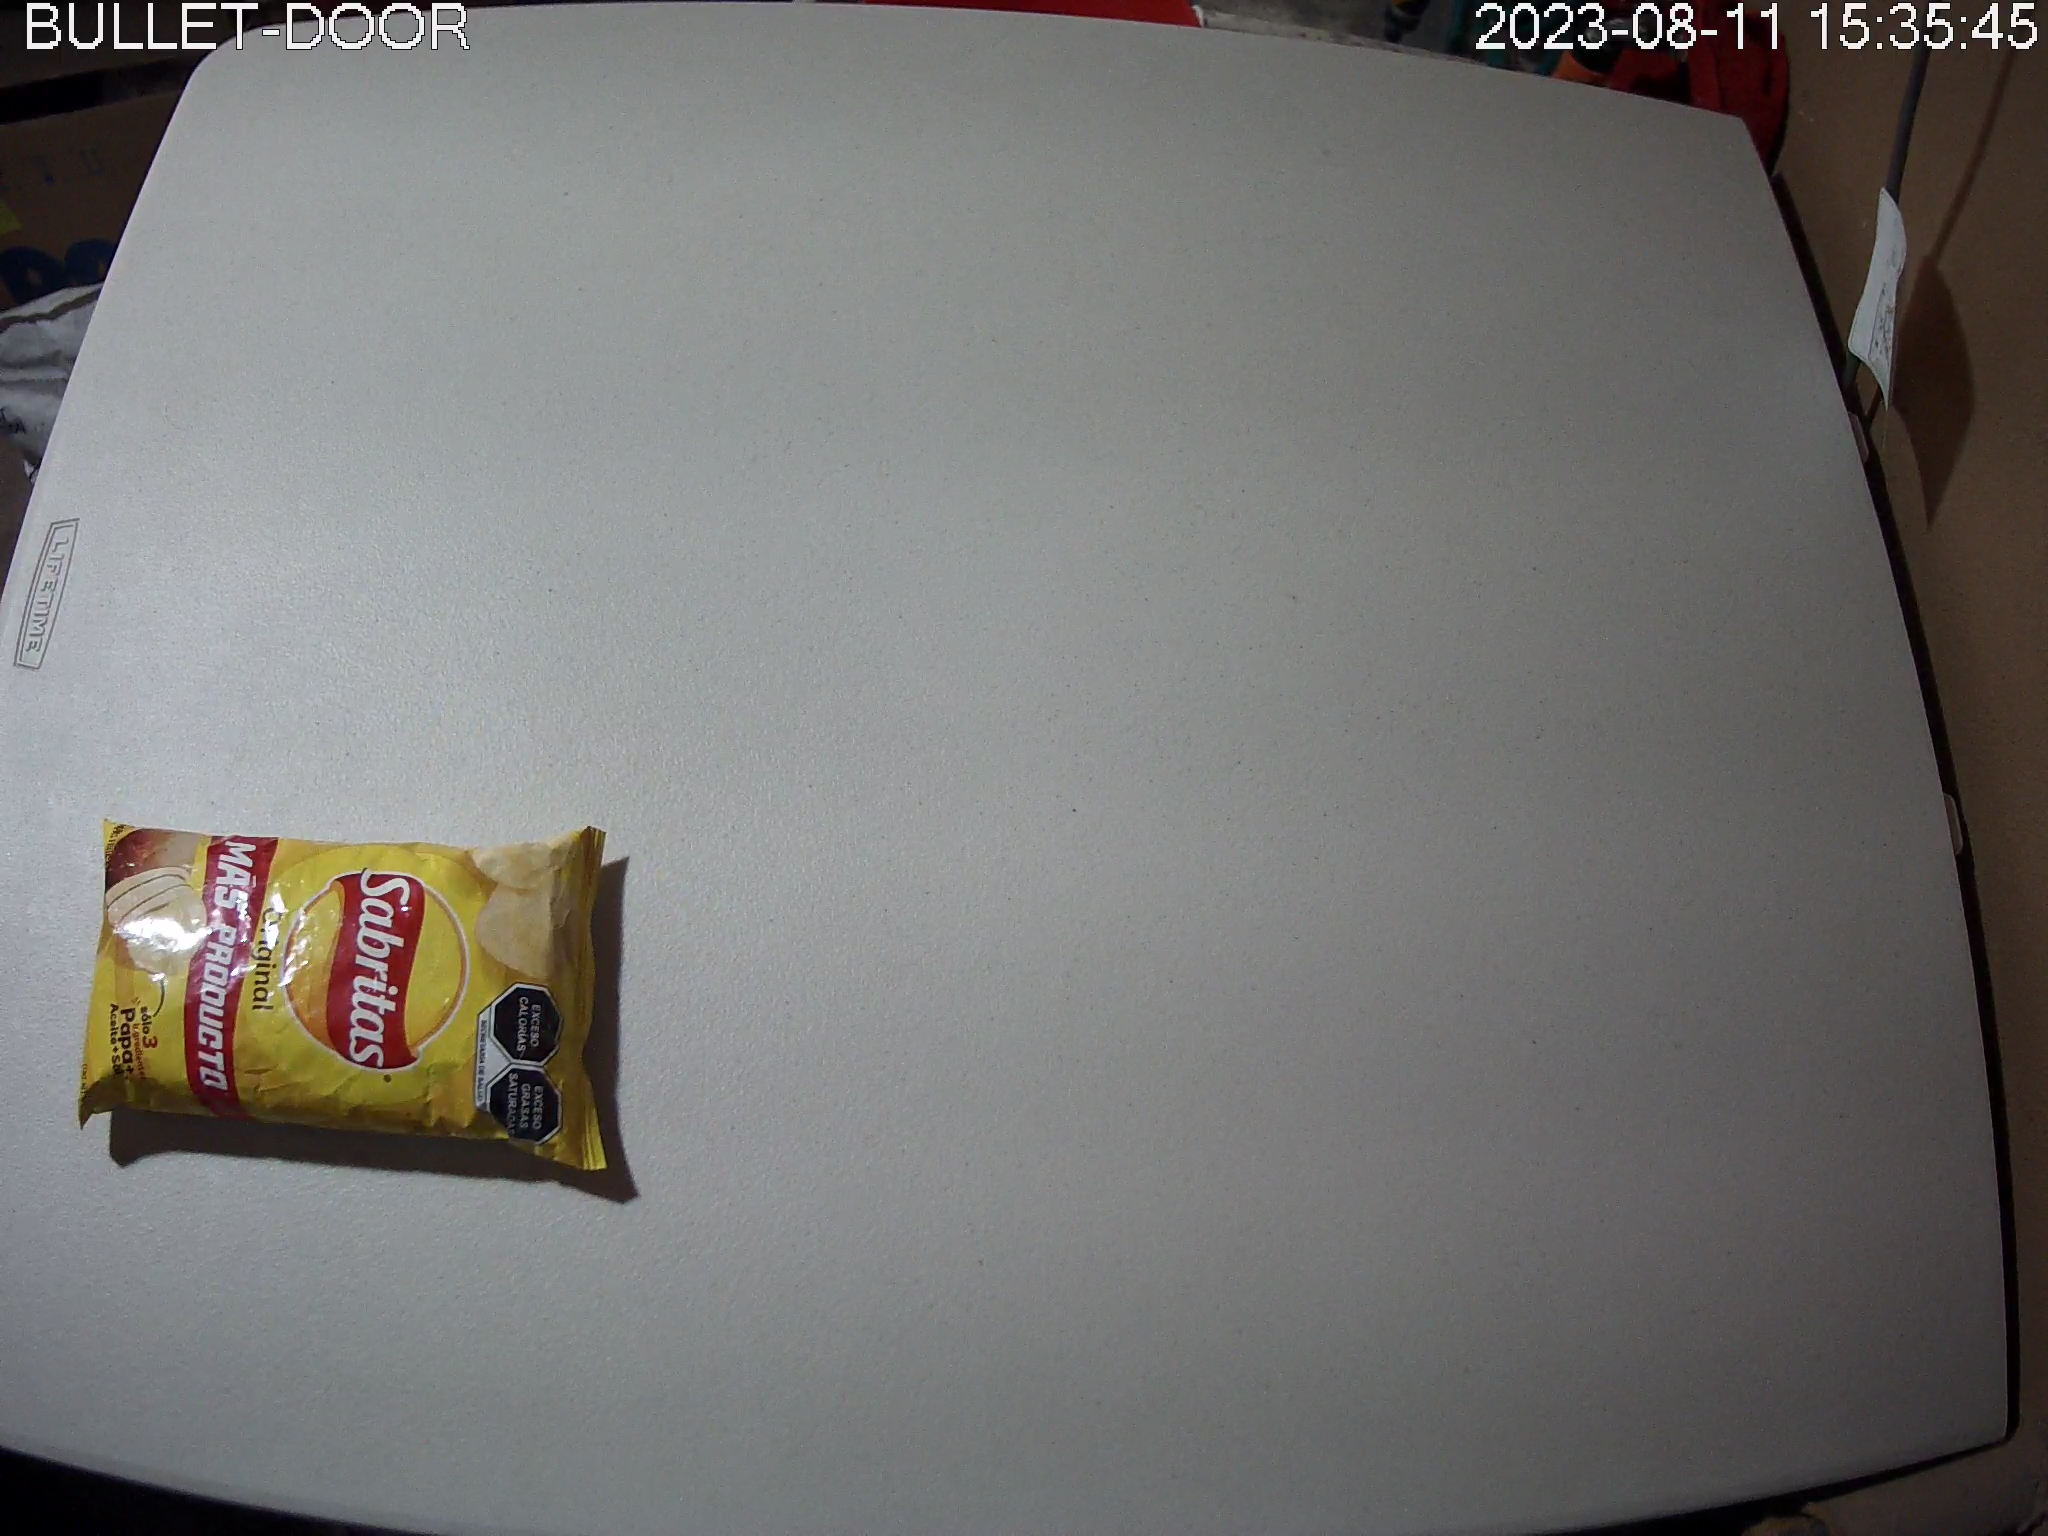Sabritas_45_F: (77, 816, 613, 1176)
